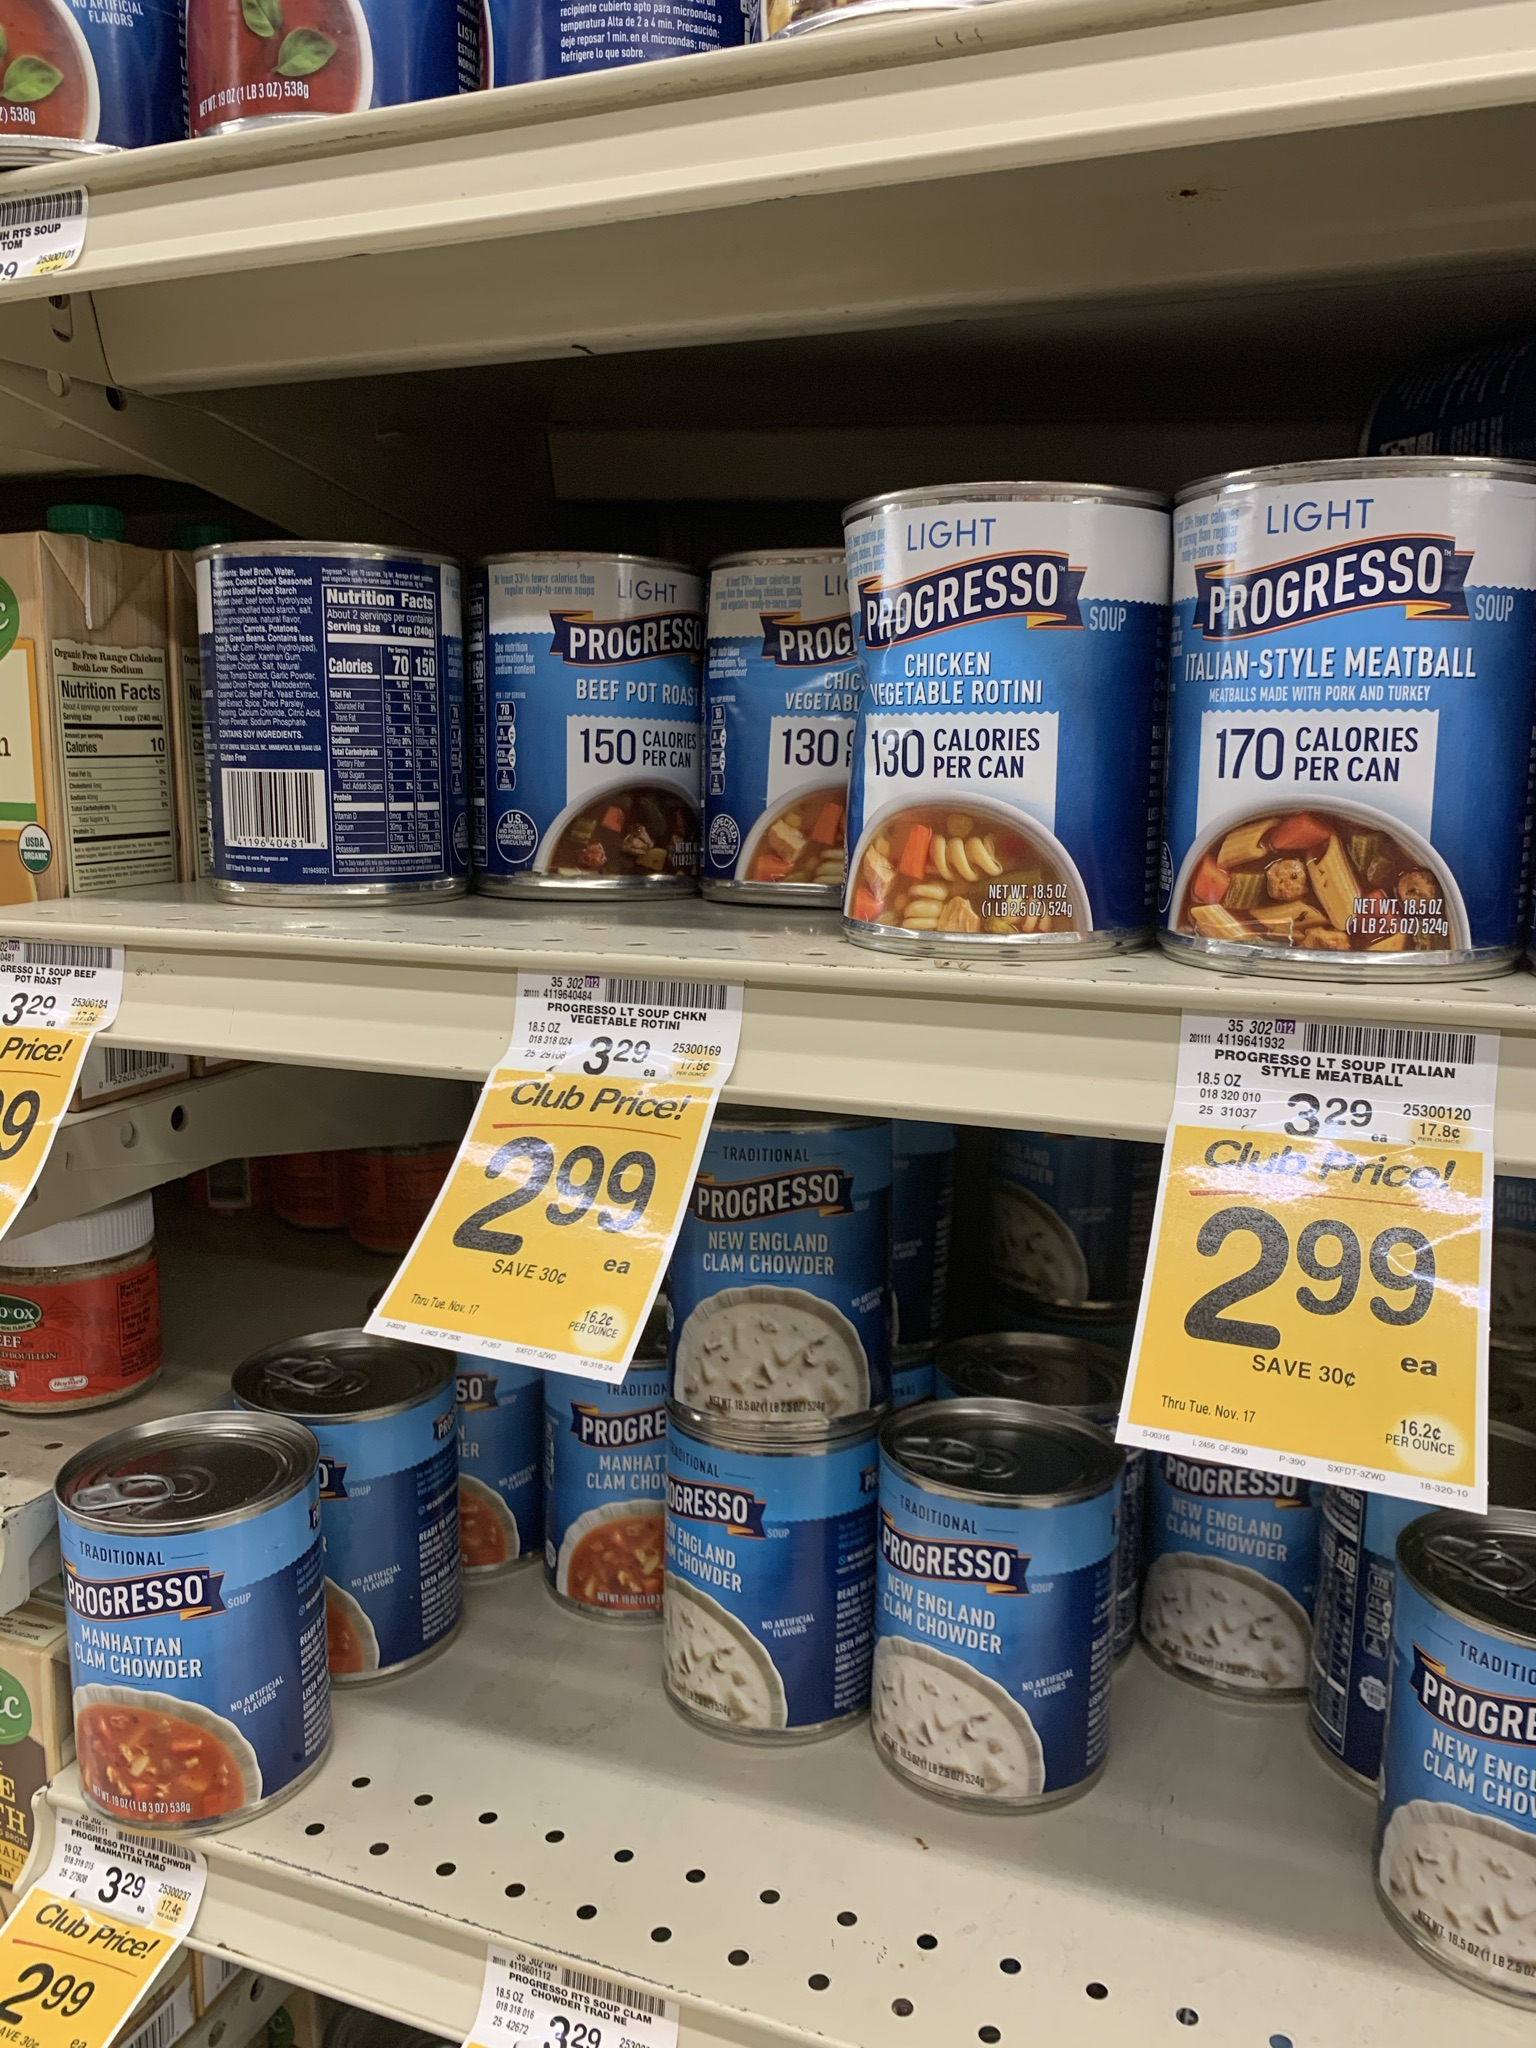can: (1187, 460, 1533, 964), (841, 477, 1154, 953), (202, 532, 460, 910), (479, 550, 697, 898), (895, 1463, 1117, 1793), (58, 1495, 287, 1800), (662, 1440, 870, 1750), (1400, 1580, 1536, 1940), (712, 1140, 866, 1417)
